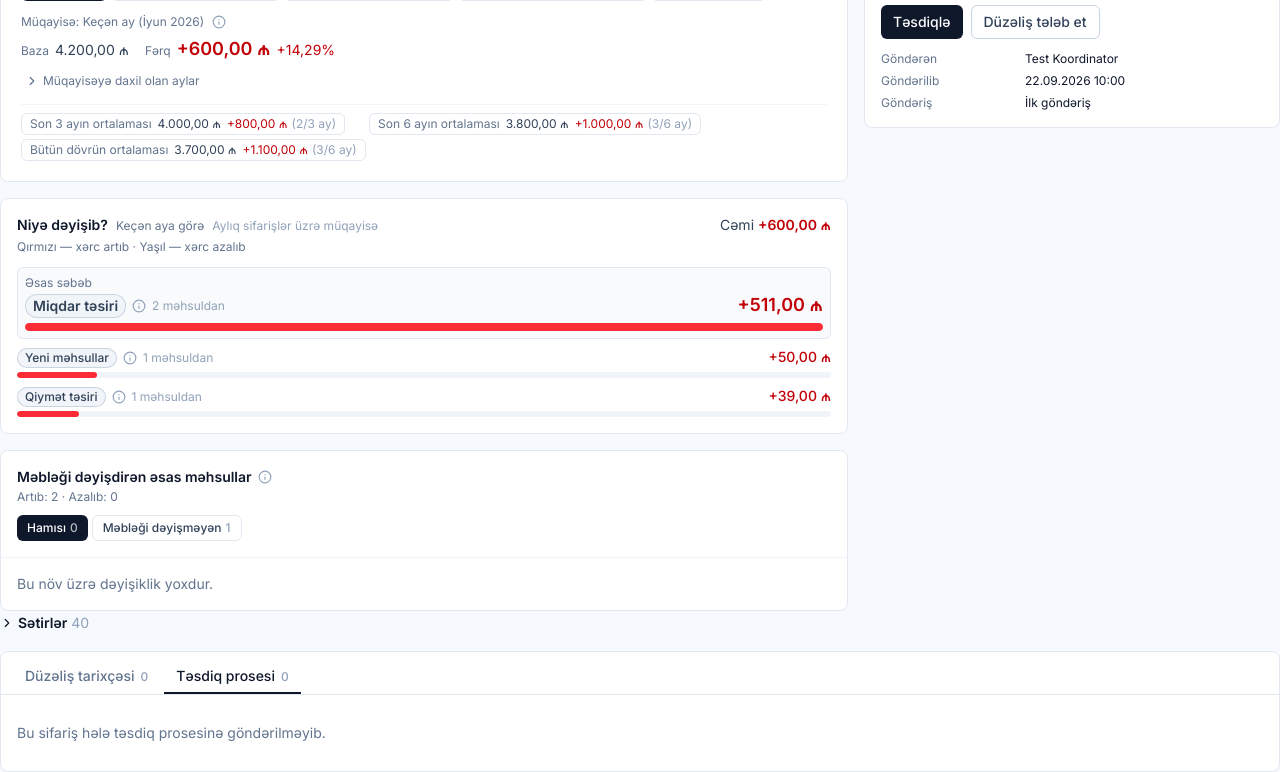
it: the drivers › lists the products when none moved money but some were compared
(page scrolled)
Click the button "Məbləği dəyişməyən1" at (167, 528), box 92,515 -> 242,541
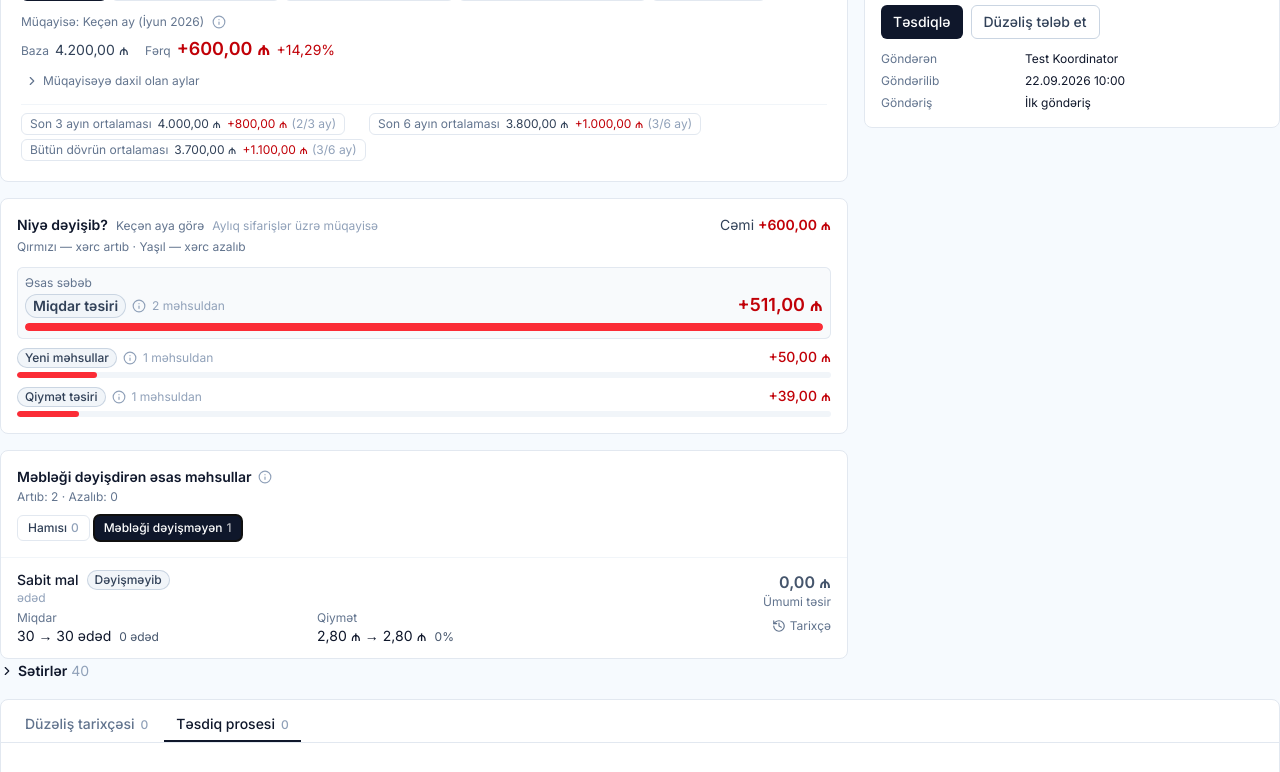
Expected: the button "Sabit mal" shows "Dəyişməyib", 1,558 -> 847,658
